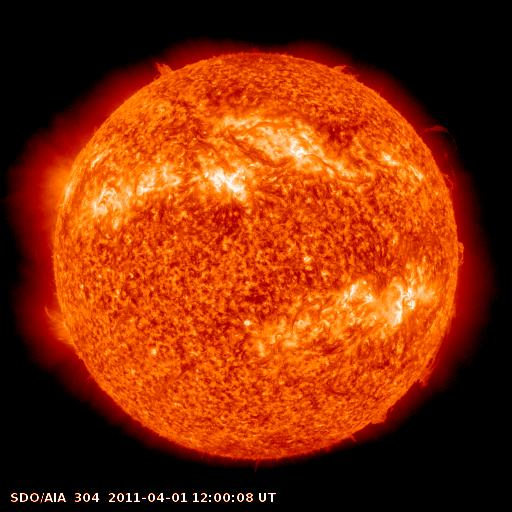prominence: (410, 296, 468, 396), (416, 108, 464, 196), (138, 47, 183, 89), (322, 52, 370, 86), (365, 402, 399, 433), (447, 234, 473, 271)
